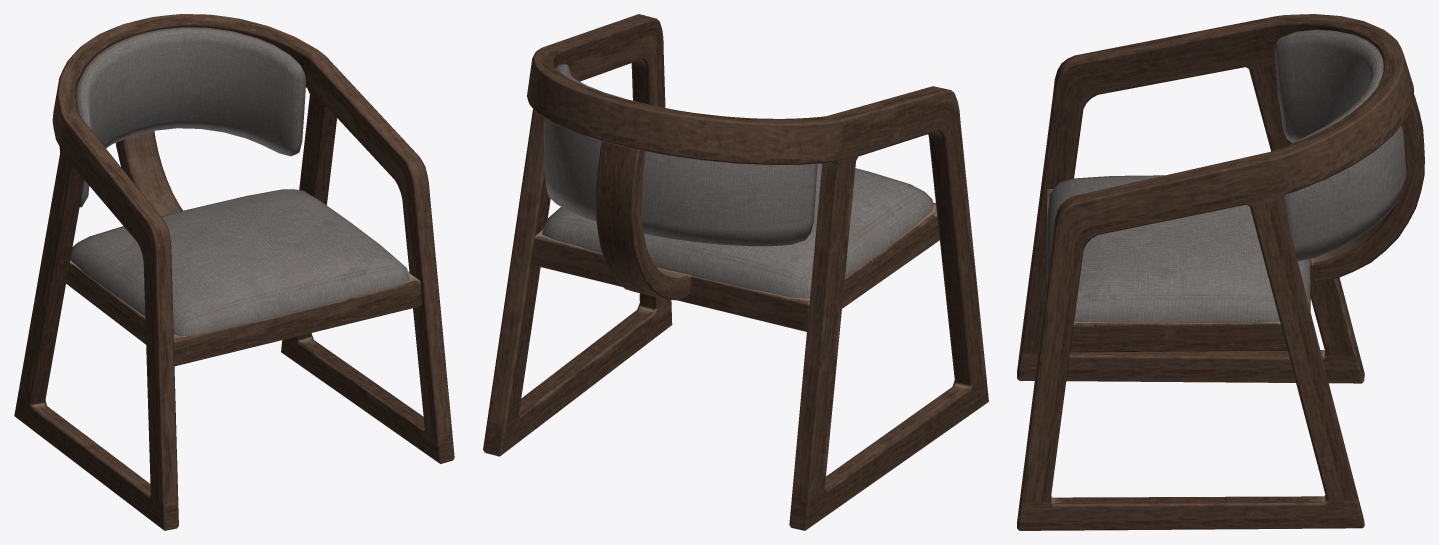
Rendered from SM_Chair_01_A.fbx.
The picture shows the model from 3 angles, left to right: view 1: azimuth 30°, elevation 25°; view 2: azimuth 150°, elevation 25°; view 3: azimuth 270°, elevation 25°; orthographic projection. The views are drawn at different scales.
Visible parts, largest first — view 1: SM_Chair_01_A_LOD0; view 2: SM_Chair_01_A_LOD0; view 3: SM_Chair_01_A_LOD0.
Boxes of the visible parts, box(x1,y1,x2,y2) form: SM_Chair_01_A_LOD0: box(14, 14, 454, 530); SM_Chair_01_A_LOD0: box(483, 14, 988, 530); SM_Chair_01_A_LOD0: box(1017, 14, 1424, 530).
Bounding box in the file's own units: 71.05 × 76.77 × 81.66.
